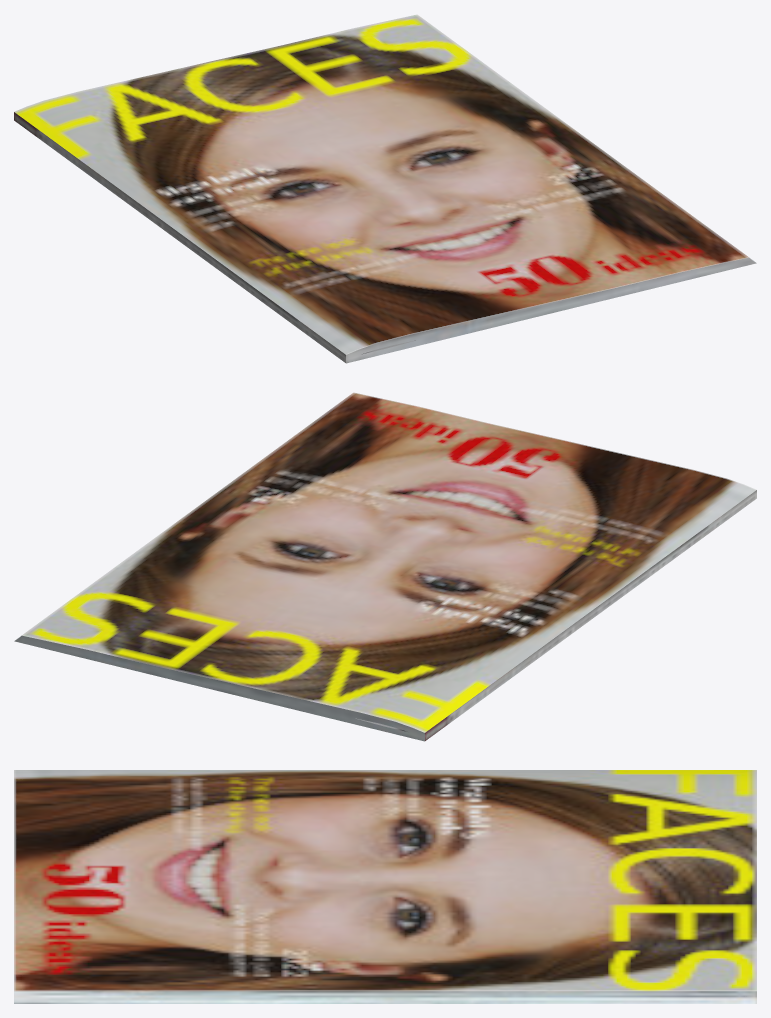
File: sweethome3d-scopia-magazine.glb
3 views of the same model, one above another, from view 1: azimuth 30°, elevation 25°; view 2: azimuth 150°, elevation 25°; view 3: azimuth 270°, elevation 25° (orthographic). The views are drawn at different scales.
Parts seen in each view (by area): view 1: Revue; view 2: Revue; view 3: Revue.
Boxes of the visible parts, x1=… form: Revue: x1=14, y1=14, x2=756, y2=363; Revue: x1=14, y1=392, x2=756, y2=741; Revue: x1=14, y1=770, x2=756, y2=1003.
Size of the model in its own units: 20 by 0.6113 by 28.
1 material, 1 textured.
